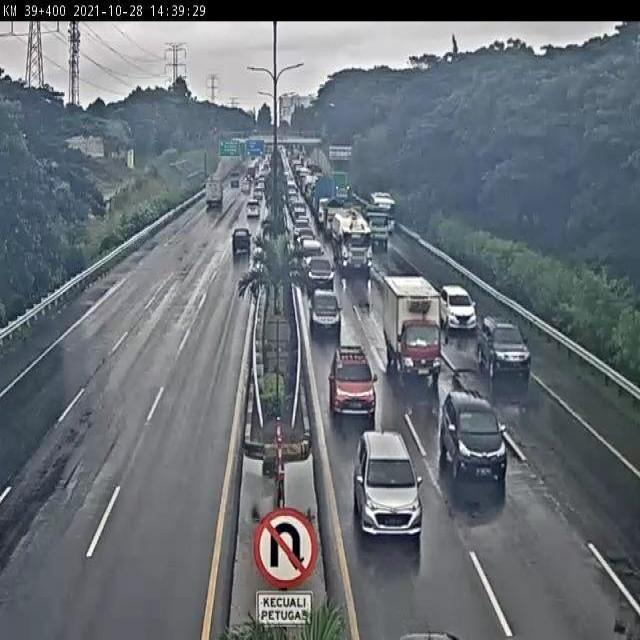big truck: (332, 209, 374, 275)
car: (353, 437, 426, 544), (438, 388, 512, 484), (326, 352, 384, 423), (481, 313, 529, 379), (437, 277, 476, 331), (309, 284, 341, 333), (301, 252, 335, 288), (224, 225, 254, 259), (238, 201, 265, 227), (244, 186, 271, 206), (234, 176, 254, 195)
small truck: (379, 270, 442, 386), (365, 200, 394, 253), (196, 172, 226, 215)
